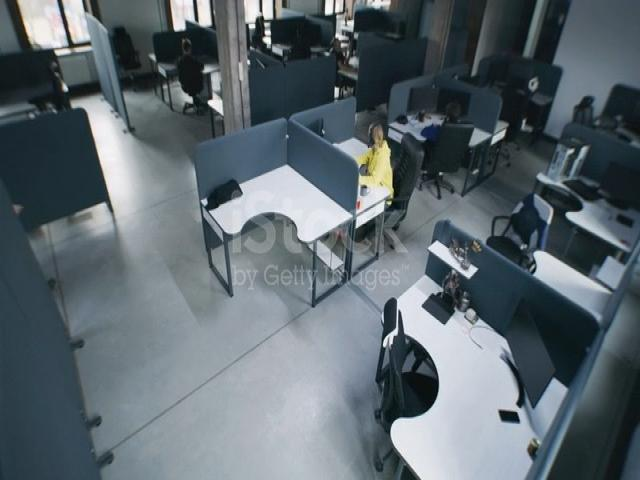empty chair: (373, 273, 436, 453), (491, 184, 553, 274), (102, 27, 153, 99), (498, 67, 531, 154), (41, 51, 79, 115), (571, 78, 604, 130)
occupiedchair: (352, 103, 425, 234), (418, 76, 476, 206), (163, 13, 211, 115), (322, 17, 363, 102)
